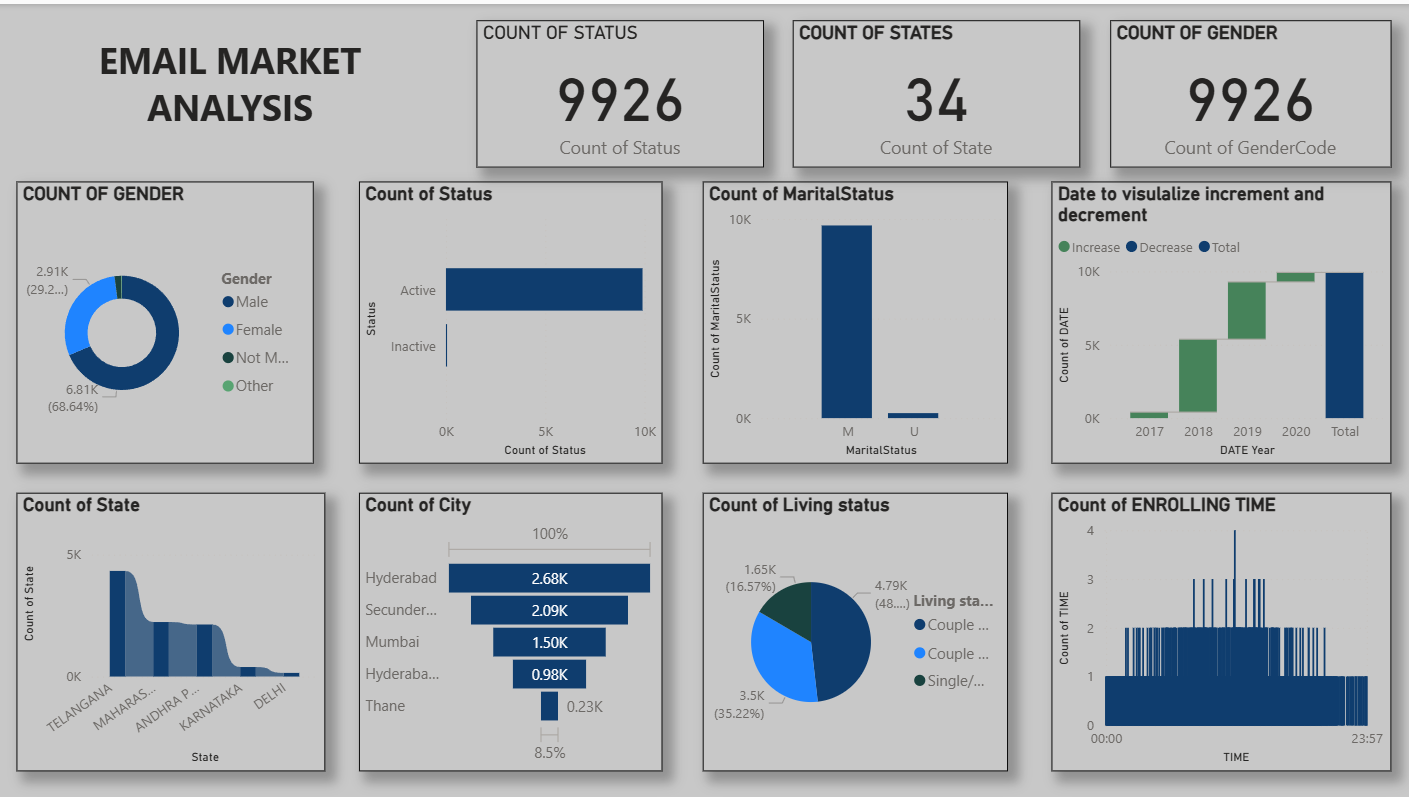

This screenshot's page, from the dashboard's own definition file:
{"tool":"powerbi","page":{"name":"Page 1","canvas":[1280,720],"ordinal":0},"visuals":[{"type":"donutChart","title":"COUNT OF GENDER","fields":{"Category":["TBL_CustomerProfileData.GenderCode"],"Y":["CountNonNull(TBL_CustomerProfileData.GenderCode)"]},"box":[20.5,160.5,267.8,254.6],"z":0},{"type":"clusteredBarChart","title":"Count of Status ","fields":{"Category":["TBL_CustomerProfileData.Status"],"Y":["CountNonNull(TBL_CustomerProfileData.Status)"]},"box":[329.4,160.5,273.9,254.6],"z":1000},{"type":"columnChart","title":"Count of MaritalStatus ","fields":{"Category":["TBL_CustomerProfileData.MaritalStatus"],"Y":["CountNonNull(TBL_CustomerProfileData.MaritalStatus)"]},"box":[639.4,160.5,275.1,254.6],"z":2000},{"type":"pieChart","title":"Count of Living status ","fields":{"Category":["TBL_CustomerProfileData.Living status"],"Y":["CountNonNull(TBL_CustomerProfileData.Living status)"]},"box":[639.4,440.4,275.1,250.9],"z":3000},{"type":"ribbonChart","title":"Count of State ","fields":{"Category":["TBL_CustomerProfileData.State"],"Y":["CountNonNull(TBL_CustomerProfileData.State)"]},"box":[20.5,440.4,278.7,250.9],"z":4000},{"type":"funnel","title":"Count of City ","fields":{"Category":["TBL_CustomerProfileData.City"],"Y":["CountNonNull(TBL_CustomerProfileData.City)"]},"box":[329.4,440.4,273.9,250.9],"z":5000},{"type":"waterfallChart","title":"Date to visulalize increment and decrement","fields":{"Category":["TBL_CustomerProfileData.DATE.Variation.Date Hierarchy.Year","TBL_CustomerProfileData.DATE.Variation.Date Hierarchy.Quarter","TBL_CustomerProfileData.DATE.Variation.Date Hierarchy.Month","TBL_CustomerProfileData.DATE.Variation.Date Hierarchy.Day"],"Y":["CountNonNull(TBL_CustomerProfileData.DATE)"]},"box":[953.1,160.5,306.4,254.6],"z":6000},{"type":"clusteredColumnChart","title":"Count of ENROLLING TIME","fields":{"Category":["TBL_CustomerProfileData.TIME"],"Y":["CountNonNull(TBL_CustomerProfileData.TIME)"]},"box":[953.1,440.4,306.4,250.9],"z":7000},{"type":"card","title":"COUNT OF STATUS","fields":{"Values":["CountNonNull(TBL_CustomerProfileData.Status)"]},"box":[435.5,14.5,259.4,132.7],"z":8000},{"type":"card","title":"COUNT OF STATES","fields":{"Values":["Count(TBL_CustomerProfileData.State)"]},"box":[720.2,14.5,259.4,132.7],"z":9000},{"type":"card","title":"COUNT OF GENDER","fields":{"Values":["CountNonNull(TBL_CustomerProfileData.GenderCode)"]},"box":[1006.2,14.5,253.4,132.7],"z":10000},{"type":"textbox","box":[20.5,24.1,384.9,107.4],"z":11000}]}

Visuals, with their boxes in screenshot pixels (x1, y1, x2, y2), scaled from the page's 1280x720 canvas onto the 1409x797 screenshot:
"COUNT OF GENDER" donutChart: <region>23, 178, 317, 459</region>
"Count of Status " clusteredBarChart: <region>363, 178, 664, 459</region>
"Count of MaritalStatus " columnChart: <region>704, 178, 1007, 459</region>
"Count of Living status " pieChart: <region>704, 487, 1007, 765</region>
"Count of State " ribbonChart: <region>23, 487, 329, 765</region>
"Count of City " funnel: <region>363, 487, 664, 765</region>
"Date to visulalize increment and decrement" waterfallChart: <region>1049, 178, 1386, 459</region>
"Count of ENROLLING TIME" clusteredColumnChart: <region>1049, 487, 1386, 765</region>
"COUNT OF STATUS" card: <region>479, 16, 765, 163</region>
"COUNT OF STATES" card: <region>793, 16, 1078, 163</region>
"COUNT OF GENDER" card: <region>1108, 16, 1387, 163</region>
textbox: <region>23, 27, 446, 146</region>
